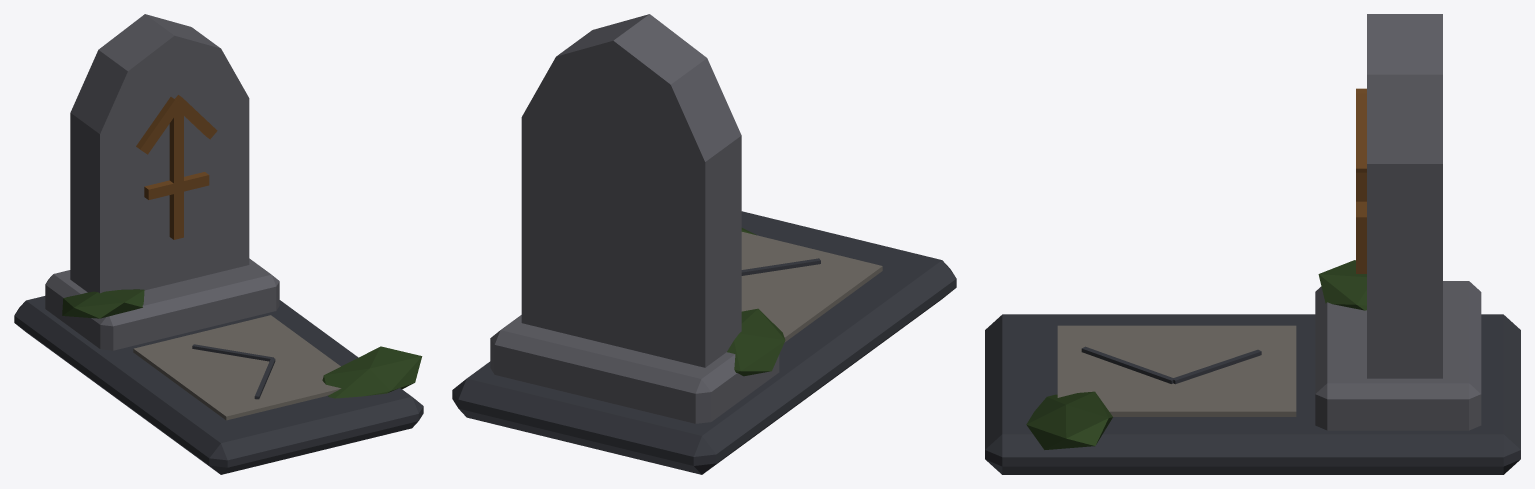
File: Rune_Gravestone.glb
3 renders of one model, left to right at view 1: azimuth 30°, elevation 25°; view 2: azimuth 150°, elevation 25°; view 3: azimuth 270°, elevation 25°, orthographic. The views are drawn at different scales.
Parts seen in each view (by area): view 1: Rune_Gravestone; view 2: Rune_Gravestone; view 3: Rune_Gravestone.
Part boxes in pixels (x1=…): Rune_Gravestone: x1=14, y1=14, x2=423, y2=474; Rune_Gravestone: x1=452, y1=14, x2=956, y2=474; Rune_Gravestone: x1=985, y1=14, x2=1520, y2=474.
Size of the model in its own units: 1.02 by 1.28 by 1.55.
